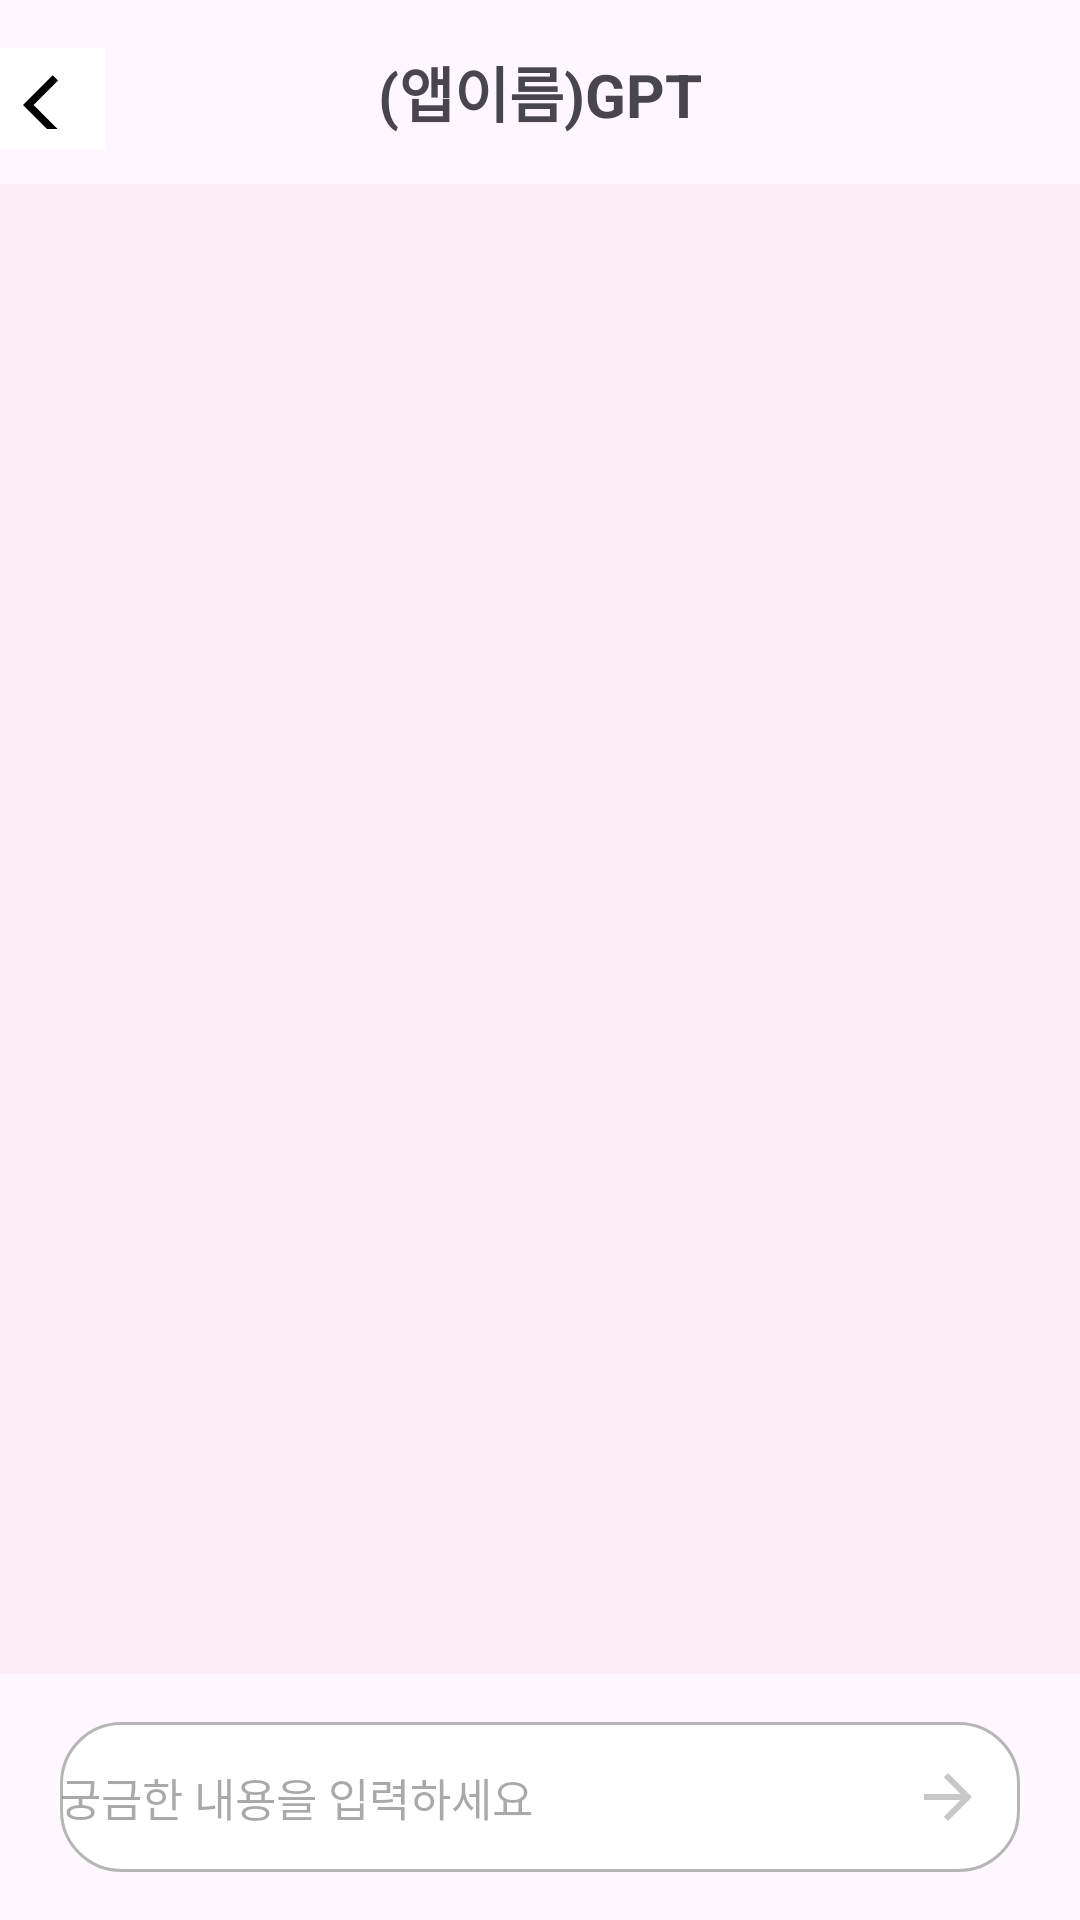

Where icons sit on this 1080px x 1920px app screen, as (x1=x1, y1=y1, x2=x2, y2=y2):
gpt back: (x1=23, y1=75, x2=58, y2=129)
gpt send: (x1=924, y1=1773, x2=972, y2=1821)
